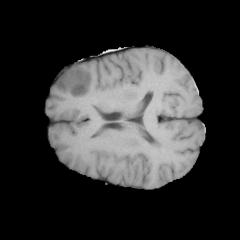glioma: (56, 67, 92, 97)
